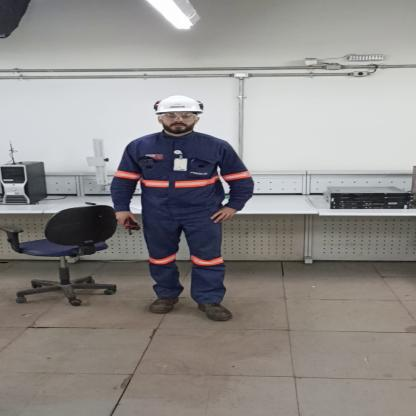Capacete: (152, 94, 209, 116)
